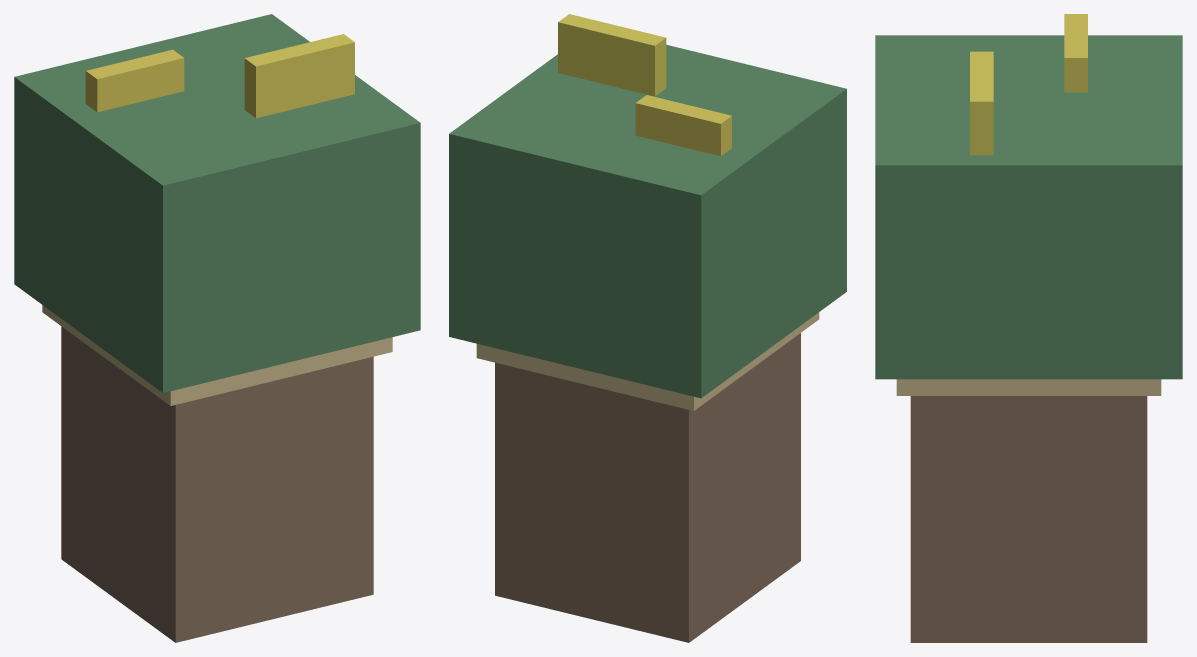
The model's file is flower_pot.glb.
3 views of the same model, side by side, from view 1: azimuth 30°, elevation 25°; view 2: azimuth 150°, elevation 25°; view 3: azimuth 270°, elevation 25° (orthographic). The views are drawn at different scales.
Parts seen in each view (by area): view 1: FlowerPot; view 2: FlowerPot; view 3: FlowerPot.
Part boxes in pixels (box(x1,y1,x2,y2)): FlowerPot: box(14, 14, 420, 642); FlowerPot: box(449, 14, 846, 642); FlowerPot: box(875, 14, 1182, 642).
Bounding box in the file's own units: 0.65 × 1.27 × 0.65.
